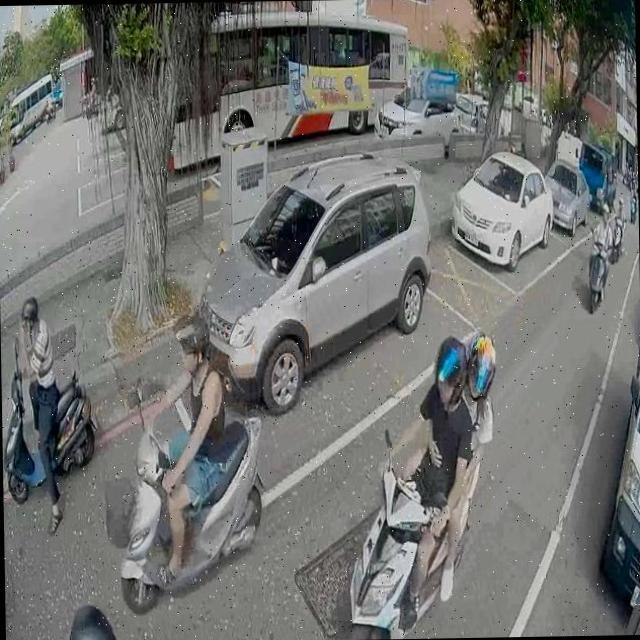person: (372, 324, 478, 632), (397, 324, 500, 608), (140, 307, 234, 586), (15, 294, 62, 536), (588, 202, 614, 300), (68, 601, 121, 640), (614, 196, 625, 253), (85, 76, 96, 108), (629, 178, 637, 218), (47, 90, 55, 110)
